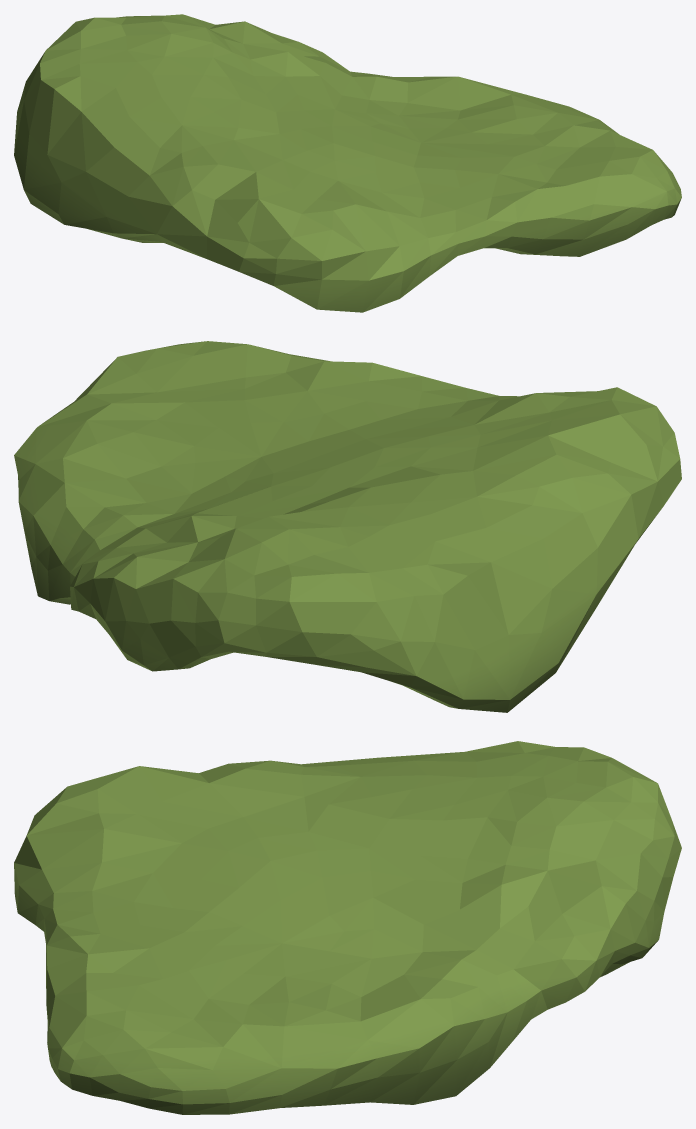
The model's file is Jungle_PlatformRock_Med_C_Grass.fbx.
3 views of the same model, one above another, from view 1: azimuth 30°, elevation 25°; view 2: azimuth 150°, elevation 25°; view 3: azimuth 270°, elevation 25° (orthographic). The views are drawn at different scales.
Visible parts, largest first — view 1: Jungle_PlatformRock_Med_C_Grass; view 2: Jungle_PlatformRock_Med_C_Grass; view 3: Jungle_PlatformRock_Med_C_Grass.
Part boxes in pixels (x1,y1,x2,y2): Jungle_PlatformRock_Med_C_Grass: [14, 14, 681, 312]; Jungle_PlatformRock_Med_C_Grass: [14, 341, 681, 712]; Jungle_PlatformRock_Med_C_Grass: [14, 741, 681, 1114].
Bounding box in the file's own units: 11.78 × 3.29 × 11.89.
Materials: 1 (1 with a texture image).
